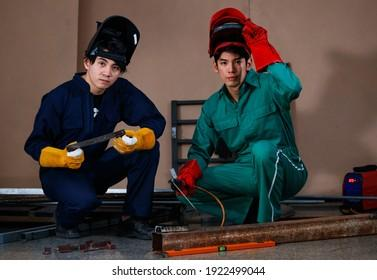gloves: (242, 18, 285, 73), (38, 141, 85, 169), (112, 127, 156, 154), (174, 159, 203, 198)
